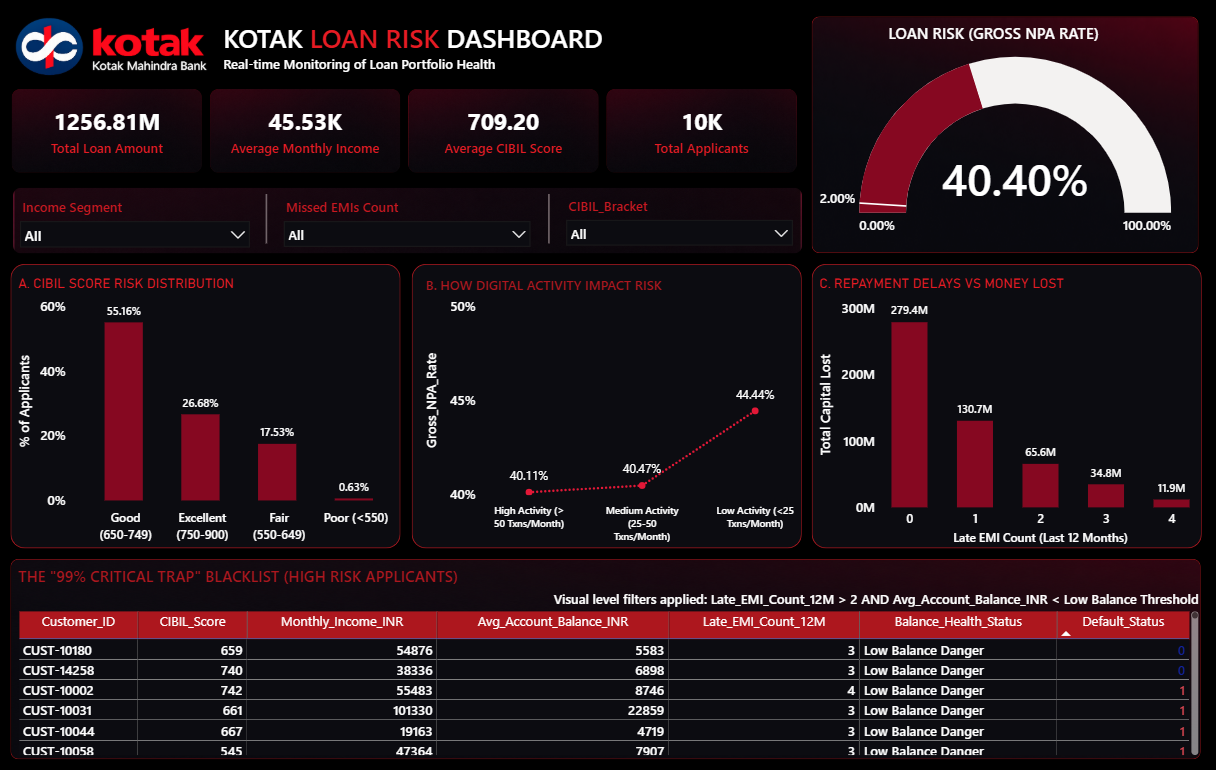

Layout of this report page (visuals, bound fields, positions):
{"tool":"powerbi","page":{"name":"Dashboard","canvas":[1500,950],"ordinal":0},"visuals":[{"type":"textbox","box":[272.7,21.2,489.4,93.9],"z":0},{"type":"shape","box":[17.1,331.4,272.9,152.9],"z":1000},{"type":"image","box":[15.2,21.2,262.1,103],"z":2000},{"type":"cardVisual","title":"vshvs","fields":{"Data":["Kotak_Loans_Dataset.Total_Portfolio_Volume","Kotak_Loans_Dataset.Average_Monthly_Income","Kotak_Loans_Dataset.Average_CIBIL_Score","Kotak_Loans_Dataset.Total_Applicants_Count"]},"box":[0,93.9,1001.5,137.9],"z":3000},{"type":"image","box":[17.7,232.3,971,80.6],"z":4000},{"type":"slicer","fields":{"Values":["Kotak_Loans_Dataset.Salary_Segment"]},"box":[17.2,240.6,303.1,79.7],"z":5000},{"type":"shape","box":[15.7,325.7,480,350],"z":6000},{"type":"clusteredColumnChart","title":"A. CIBIL SCORE RISK DISTRIBUTION","fields":{"Category":["Kotak_Loans_Dataset.CIBIL_Bracket"],"Y":["CountNonNull(Kotak_Loans_Dataset.Customer_ID)"]},"box":[19.7,339.4,489.4,336.4],"z":7000},{"type":"slicer","fields":{"Values":["Kotak_Loans_Dataset.Late_EMI_Count_12M"]},"box":[342.2,240.6,323.4,79.7],"z":8000},{"type":"shape","box":[307.8,240.6,45.3,60.9],"z":9000},{"type":"shape","box":[508.6,325.7,480,350],"z":10000},{"type":"shape","box":[1001.4,325.7,480,350],"z":11000},{"type":"areaChart","title":"B. HOW DIGITAL ACTIVITY IMPACT RISK","fields":{"Category":["Kotak_Loans_Dataset.UPI_Activity_Tier"],"Y":["Kotak_Loans_Dataset.Gross_NPA_Rate"]},"box":[517.2,331.2,479.7,335.9],"z":12000},{"type":"clusteredColumnChart","title":"C. REPAYMENT DELAYS VS MONEY LOST","fields":{"Category":["Kotak_Loans_Dataset.Late_EMI_Count_12M"],"Y":["Kotak_Loans_Dataset.Total_Capital_Lost"]},"box":[1006.1,339.9,475.6,336.9],"z":13000},{"type":"image","box":[16.1,688.7,1464.5,246.8],"z":14000},{"type":"tableEx","title":"THE \"99% CRITICAL TRAP\" BLACKLIST (HIGH RISK APPLICANTS)","fields":{"Values":["Kotak_Loans_Dataset.Customer_ID","Sum(Kotak_Loans_Dataset.CIBIL_Score)","Sum(Kotak_Loans_Dataset.Monthly_Income_INR)","Sum(Kotak_Loans_Dataset.Avg_Account_Balance_INR)","Sum(Kotak_Loans_Dataset.Late_EMI_Count_12M)","Kotak_Loans_Dataset.Balance_Health_Status","Sum(Kotak_Loans_Dataset.Default_Status)"]},"box":[19.4,696.8,1462.9,238.7],"z":15000},{"type":"image","box":[1001.5,21.2,475.8,290.9],"z":16000},{"type":"gauge","title":"LOAN RISK (GROSS NPA RATE)","fields":{"Y":["Kotak_Loans_Dataset.Gross_NPA_Rate"]},"box":[1001.5,29.2,447.7,283.1],"z":17000},{"type":"slicer","fields":{"Values":["Kotak_Loans_Dataset.CIBIL_Bracket"]},"box":[689.1,239.1,298.4,81.2],"z":18000},{"type":"shape","box":[654.7,240.6,45.3,60.9],"z":19000}]}

Visuals, with their boxes in screenshot pixels (x1, y1, x2, y2), scaled from the page's 1500x950 canvas onto the 1216x770 screenshot:
textbox: (221,17,618,93)
shape: (14,269,235,393)
image: (12,17,225,101)
"vshvs" cardVisual: (0,76,812,188)
image: (14,188,802,254)
slicer - Kotak_Loans_Dataset.Salary_Segment: (14,195,260,260)
shape: (13,264,402,548)
"A. CIBIL SCORE RISK DISTRIBUTION" clusteredColumnChart: (16,275,413,548)
slicer - Kotak_Loans_Dataset.Late_EMI_Count_12M: (277,195,540,260)
shape: (250,195,286,244)
shape: (412,264,801,548)
shape: (812,264,1201,548)
"B. HOW DIGITAL ACTIVITY IMPACT RISK" areaChart: (419,268,808,541)
"C. REPAYMENT DELAYS VS MONEY LOST" clusteredColumnChart: (816,275,1201,549)
image: (13,558,1200,758)
"THE "99% CRITICAL TRAP" BLACKLIST (HIGH RISK APPLICANTS)" tableEx: (16,565,1202,758)
image: (812,17,1198,253)
"LOAN RISK (GROSS NPA RATE)" gauge: (812,24,1175,253)
slicer - Kotak_Loans_Dataset.CIBIL_Bracket: (559,194,801,260)
shape: (531,195,567,244)
